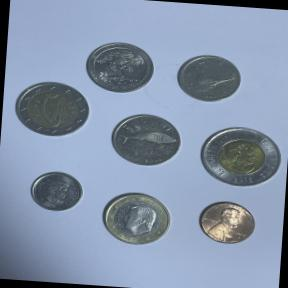1 Euro-B: (94, 187, 178, 252)
2 Euro-B: (10, 78, 92, 142)
Canada-10cent-B: (25, 166, 88, 217)
Canada-2Dollar-B: (193, 120, 288, 198)
Croatia-2Kune-B: (105, 106, 186, 172)
US-1cent-B: (192, 196, 261, 250)
US-25cent-B: (80, 36, 161, 97)
